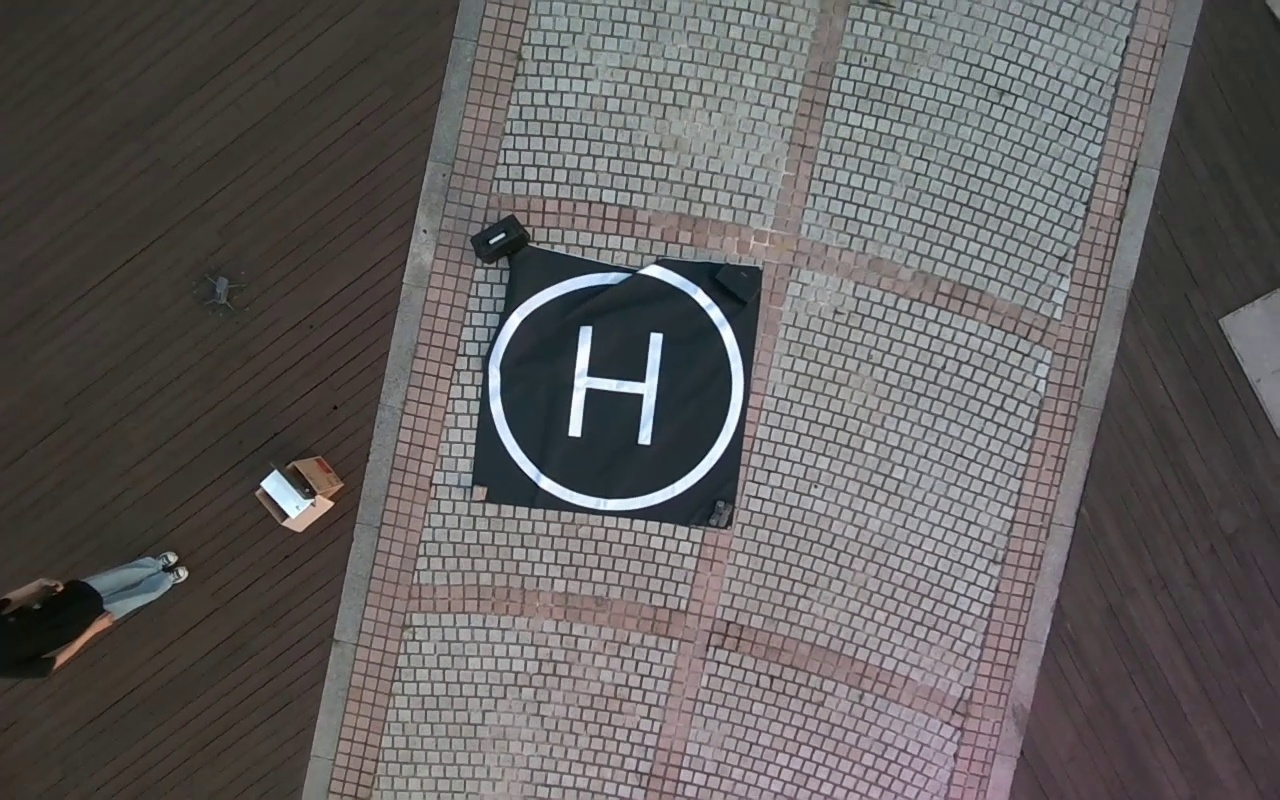H: (566, 321, 666, 447)
